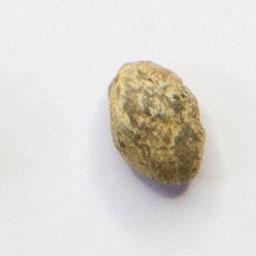peaberry: (103, 56, 209, 190)
